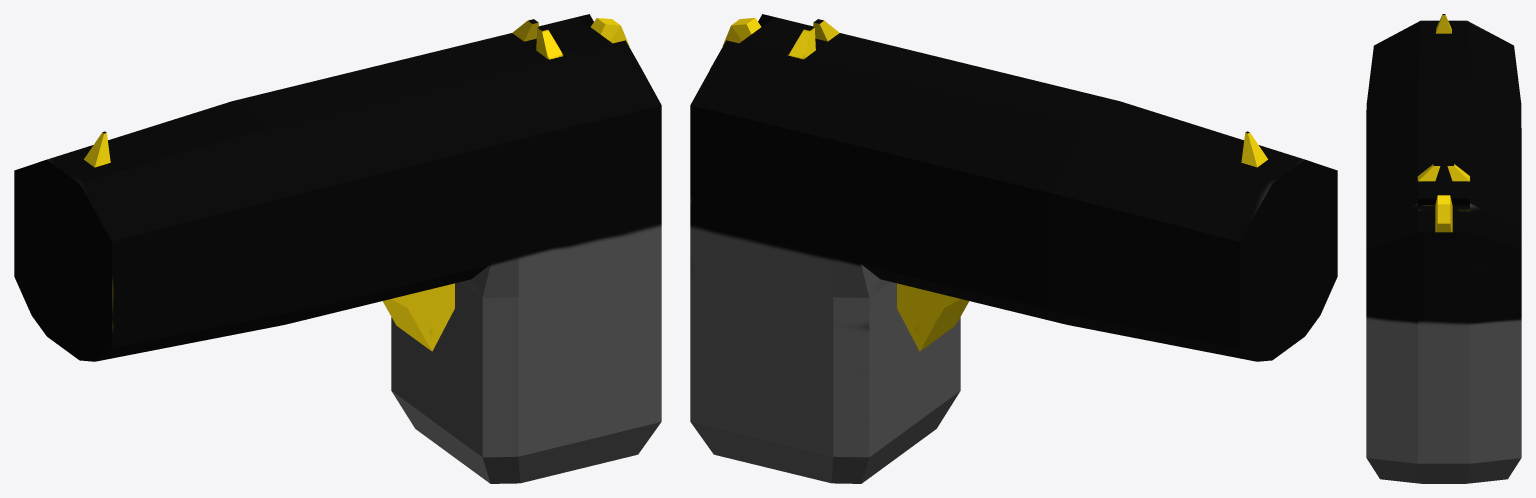
The model's file is pistol.fbx.
3 views of the same model, side by side, from view 1: azimuth 30°, elevation 25°; view 2: azimuth 150°, elevation 25°; view 3: azimuth 270°, elevation 25° (orthographic). The views are drawn at different scales.
Parts seen in each view (by area): view 1: Cube; view 2: Cube; view 3: Cube.
Part boxes in pixels (x1,y1,x2,y2): Cube: [14, 14, 661, 483]; Cube: [690, 14, 1337, 483]; Cube: [1366, 14, 1521, 483].
Size of the model in its own units: 300 by 210 by 100.
